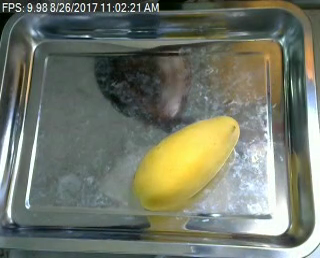Mango: (132, 107, 240, 211)
